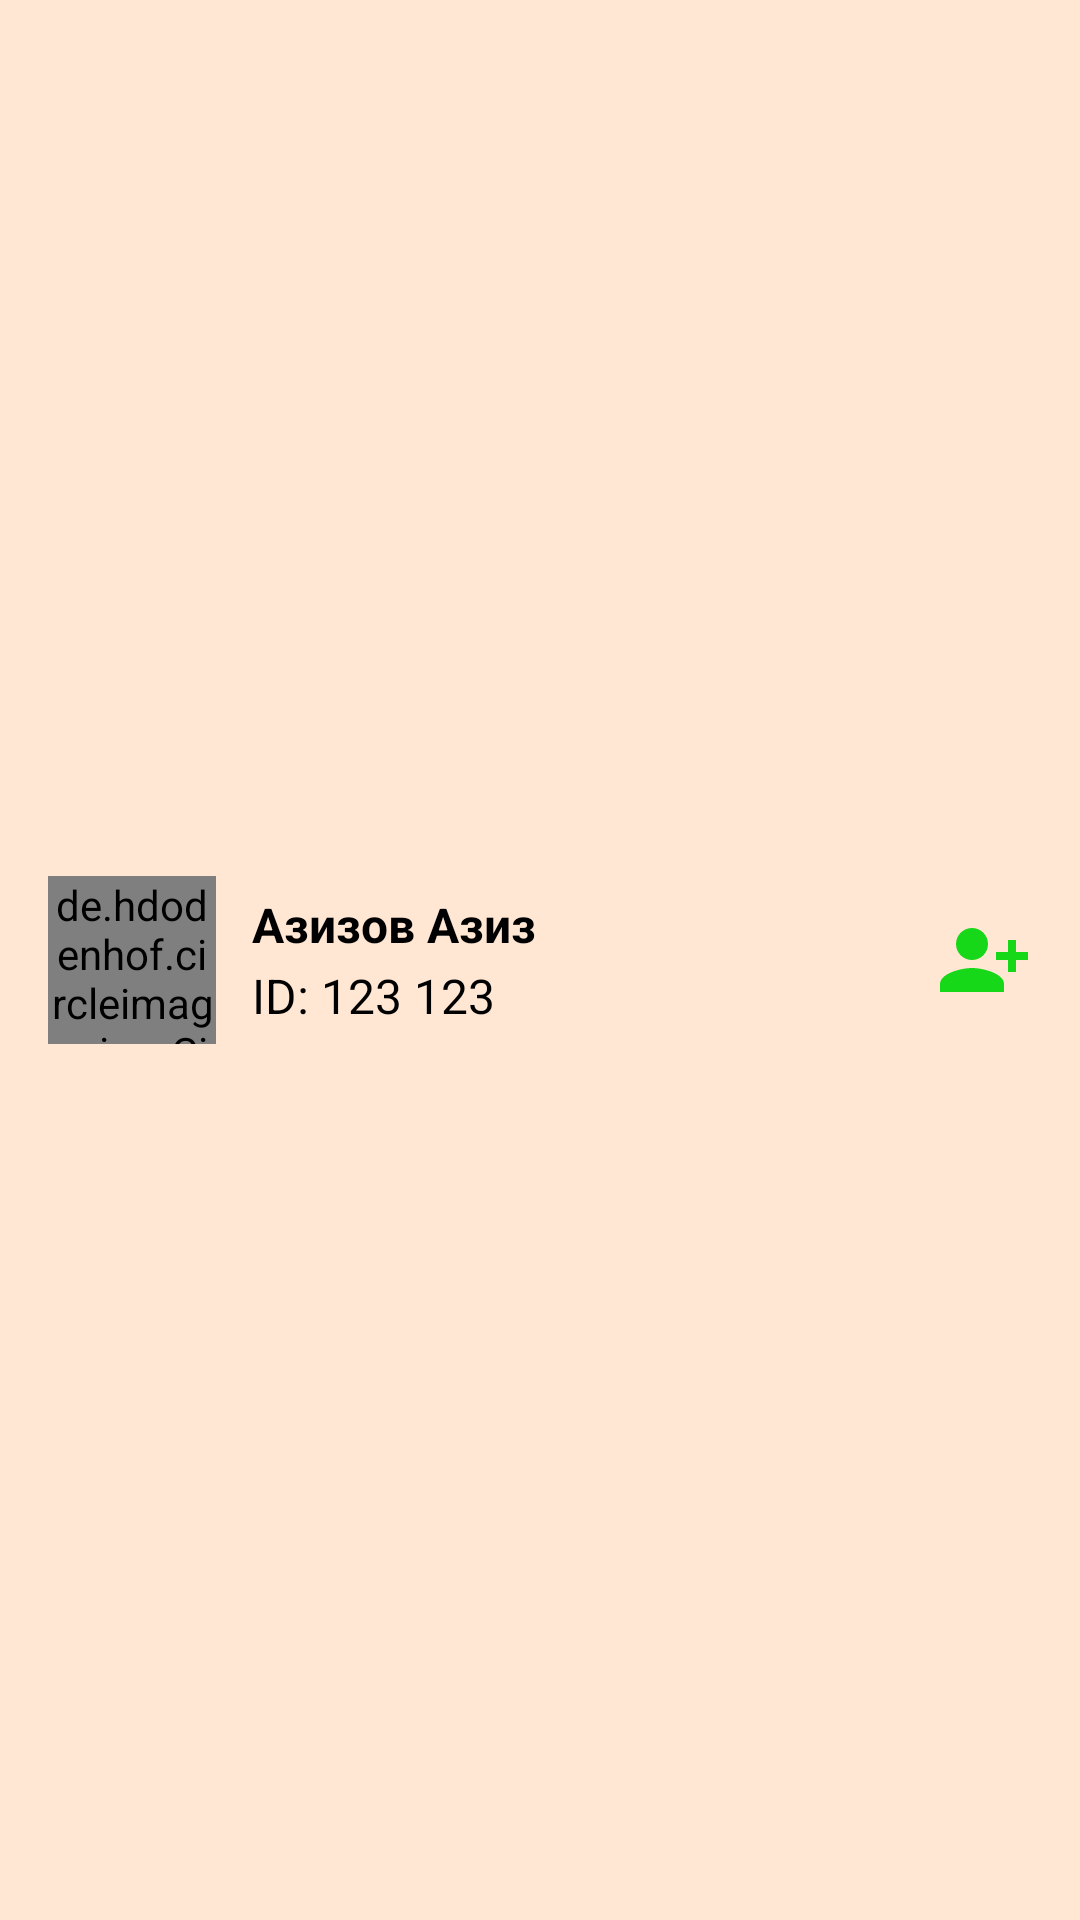

Named icons in this screenshot (1080x1920) and their centers, (x,y):
person add: (984,960)
